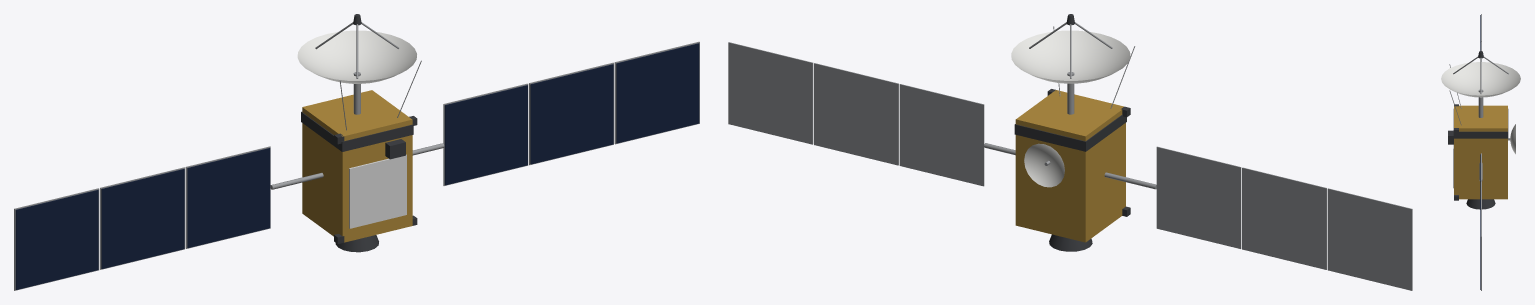
Rendered from OR04_relay_satellite.glb.
The picture shows the model from 3 angles, left to right: view 1: azimuth 30°, elevation 25°; view 2: azimuth 150°, elevation 25°; view 3: azimuth 270°, elevation 25°; orthographic projection. The views are drawn at different scales.
Parts seen in each view (by area): view 1: solar_panel (×6), bus, high_gain_dish, radiator_panel, panel_frame (×6), bus_band, main_engine; view 2: panel_frame (×6), bus, high_gain_dish, medium_gain_dish, bus_band, main_engine; view 3: bus, high_gain_dish, bus_band, main_engine, dish_boom, medium_gain_dish, star_tracker, panel_frame, solar_panel, feed_strut.
Boxes of the visible parts, x1,y1,x2,y2 form: solar_panel (×6): (15,43,699,289); bus: (302,90,412,242); high_gain_dish: (297,30,416,83); radiator_panel: (349,154,406,228); panel_frame (×6): (14,41,699,290); bus_band: (301,111,413,151); main_engine: (335,235,378,252); panel_frame (×6): (728,42,1412,290); bus: (1015,90,1125,242); high_gain_dish: (1011,30,1130,83); medium_gain_dish: (1024,143,1064,187); bus_band: (1014,114,1126,151); main_engine: (1049,234,1092,251); bus: (1454,105,1507,199); high_gain_dish: (1441,62,1520,97); bus_band: (1453,109,1508,138); main_engine: (1466,199,1495,209); dish_boom: (1478,89,1483,117); medium_gain_dish: (1510,124,1515,154); star_tracker: (1448,130,1453,144); panel_frame: (1481,209,1481,290); solar_panel: (1480,210,1480,289); feed_strut: (1480,58,1481,93).
Size of the model in its own units: 21.56 by 6.85 by 3.27.
